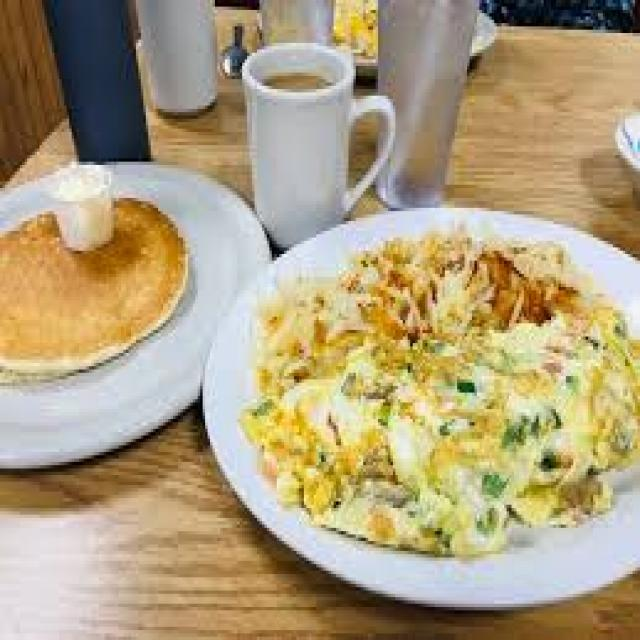Omelette: (242, 225, 638, 554)
Pancakes: (0, 189, 192, 385)
